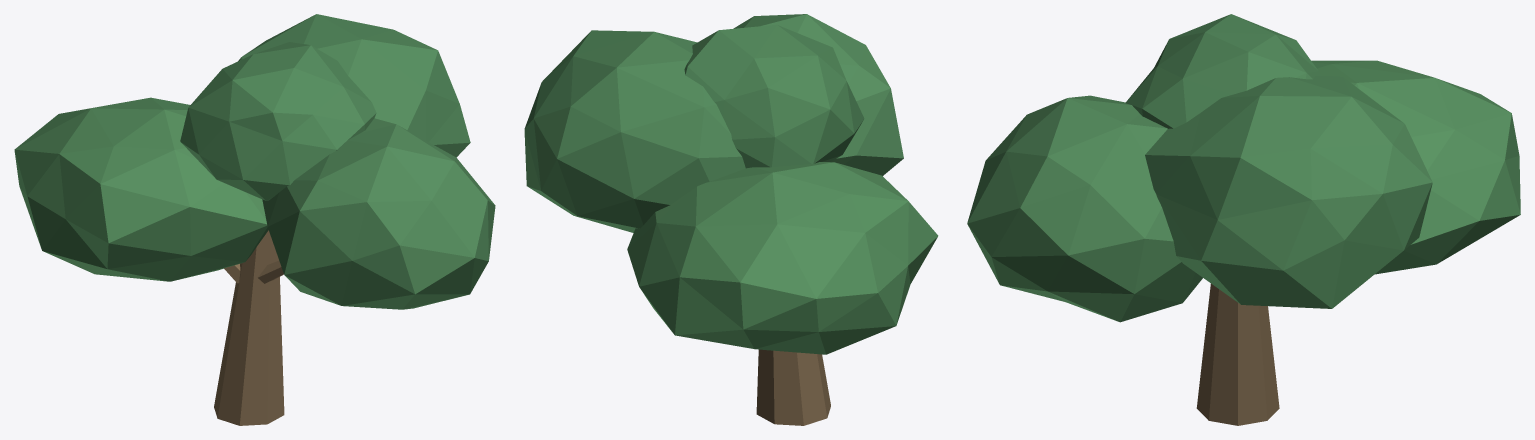
3 renders of one model, left to right at view 1: azimuth 30°, elevation 25°; view 2: azimuth 150°, elevation 25°; view 3: azimuth 270°, elevation 25°, orthographic. The views are drawn at different scales.
Parts seen in each view (by area): view 1: node (×4); view 2: node (×4); view 3: node (×4).
Part boxes in pixels (left/top/right/bottom): node (×4): left=14, top=14, right=495, bottom=425; node (×4): left=524, top=14, right=938, bottom=425; node (×4): left=967, top=14, right=1520, bottom=425.
Size of the model in its own units: 1.83 by 1.61 by 2.06.
